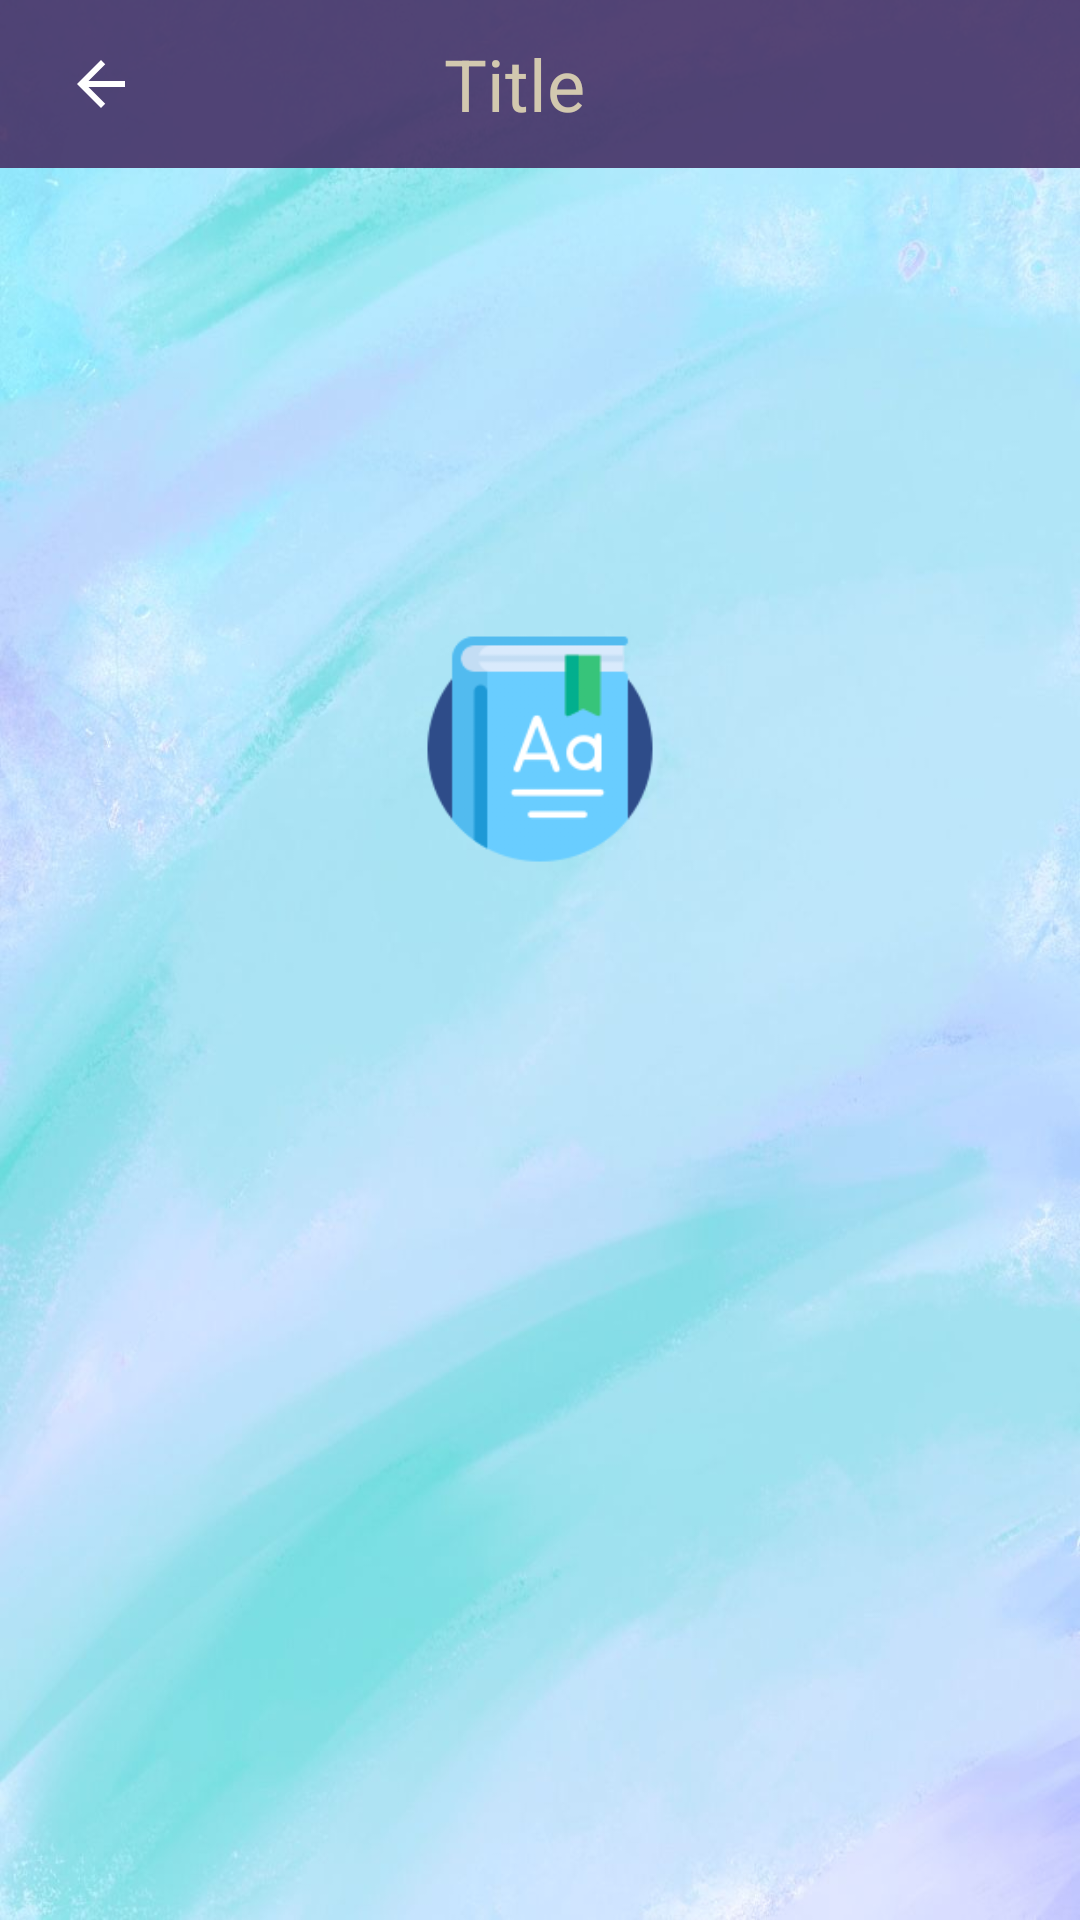

Locate icon controls on the screen. Image size 1080px×1920px, boxes as (x1,y1,x2,y2).
day night back: (77,60,125,108)
